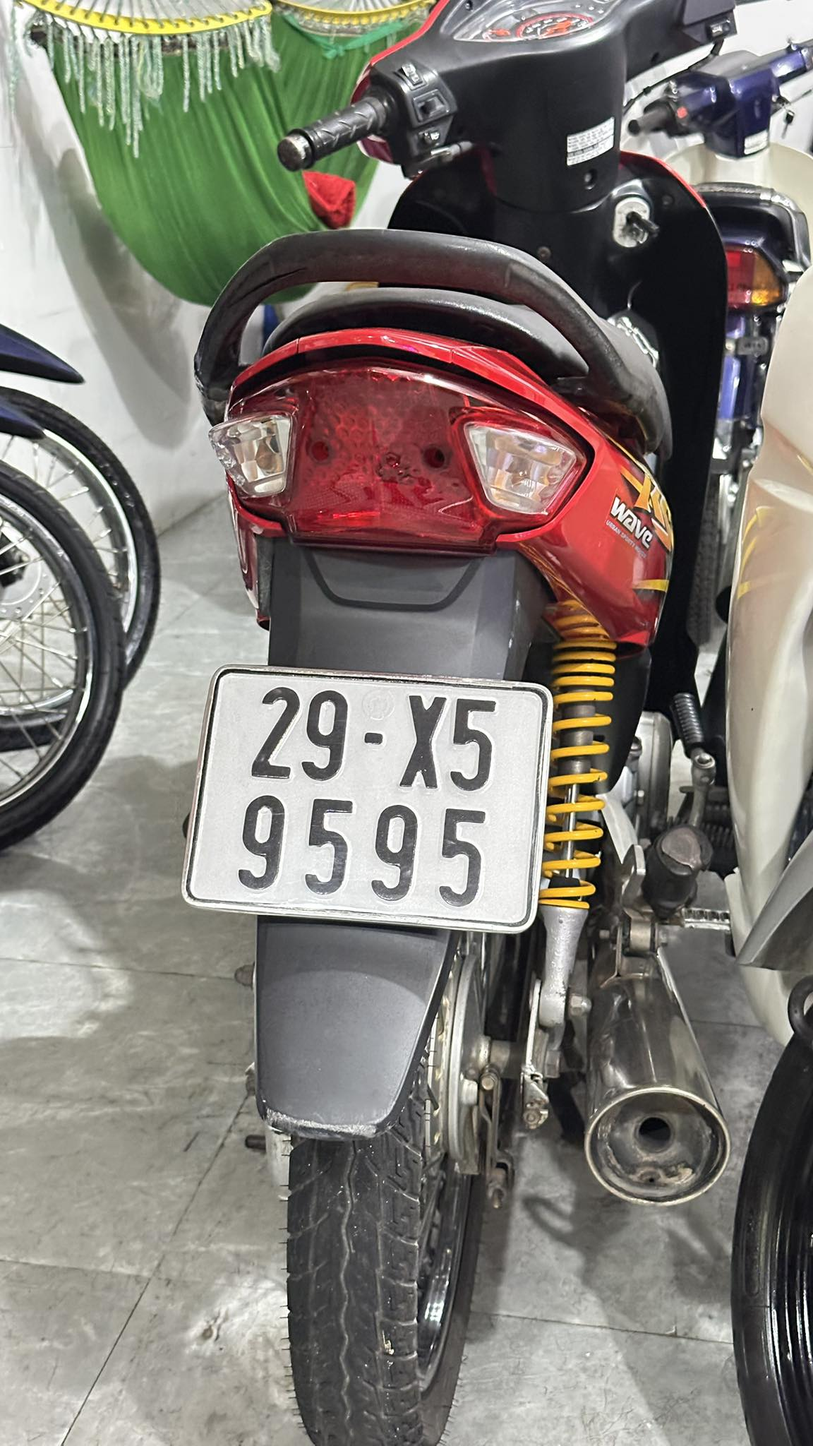bien_so: (173, 652, 562, 948)
